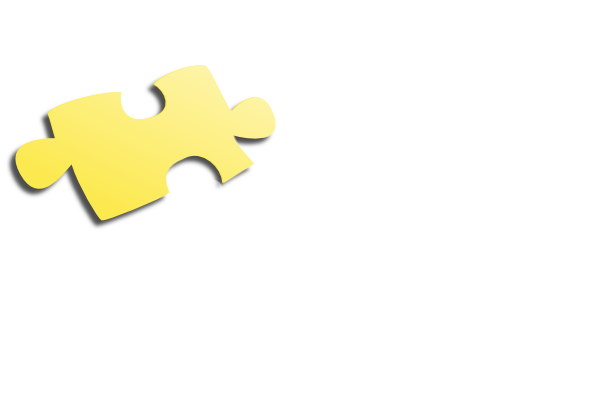puzzle piece: (9, 59, 292, 226)
